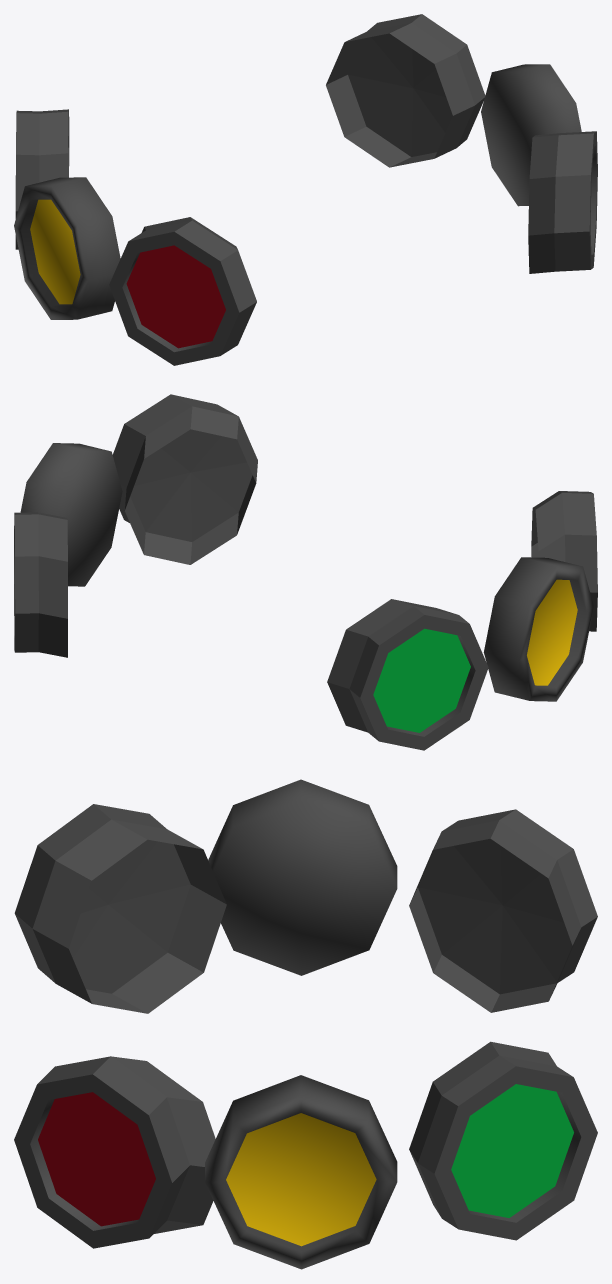
Rendered from Trafficky.fbx.
The picture shows the model from 3 angles, top to bottom: view 1: azimuth 30°, elevation 25°; view 2: azimuth 150°, elevation 25°; view 3: azimuth 270°, elevation 25°; orthographic projection. The views are drawn at different scales.
Visible parts, largest first — view 1: pCylinder4; view 2: pCylinder4; view 3: pCylinder4.
Part boxes in pixels (left/top/right/bottom): pCylinder4: left=14, top=14, right=597, bottom=365; pCylinder4: left=14, top=394, right=597, bottom=750; pCylinder4: left=14, top=779, right=597, bottom=1269.
Bounding box in the file's own units: 5.32 × 1.51 × 4.16.
